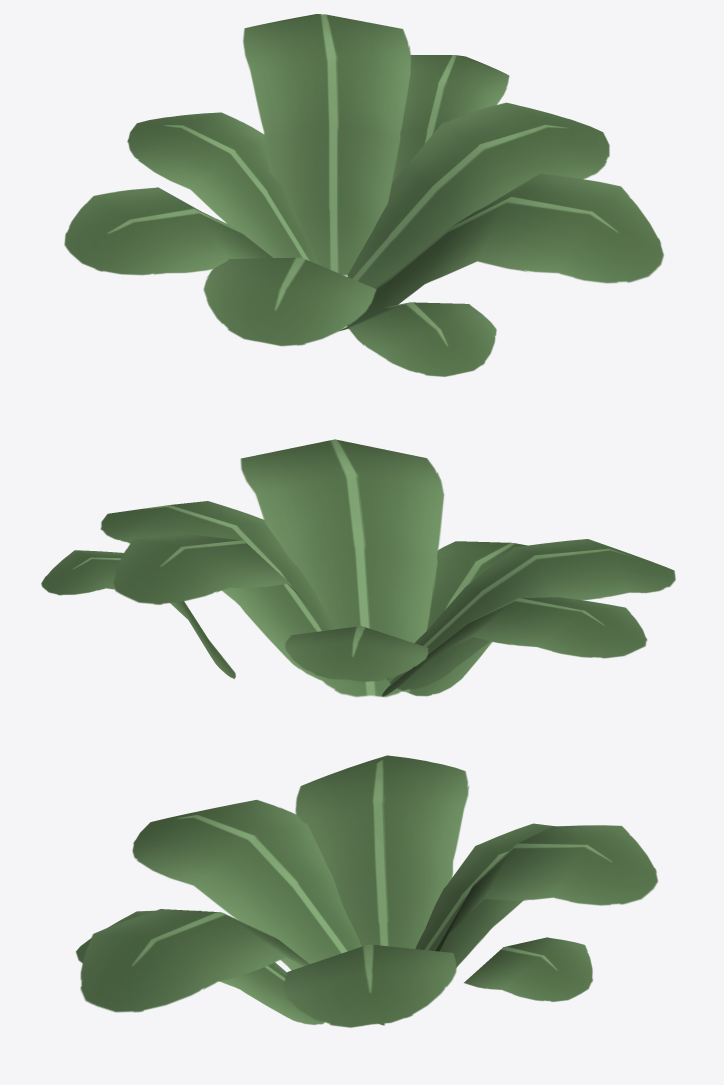
The model's file is FlowerBush2.glb.
3 renders of one model, top to bottom at view 1: azimuth 30°, elevation 25°; view 2: azimuth 150°, elevation 25°; view 3: azimuth 270°, elevation 25°, orthographic. The views are drawn at different scales.
Visible parts, largest first — view 1: Plant_2; view 2: Plant_2; view 3: Plant_2.
Part boxes in pixels (x1=…): Plant_2: x1=64, y1=14, x2=663, y2=376; Plant_2: x1=41, y1=439, x2=675, y2=697; Plant_2: x1=76, y1=755, x2=658, y2=1027.
Size of the model in its own units: 1.4 by 0.552 by 1.47.
Materials: 1 (1 with a texture image).
